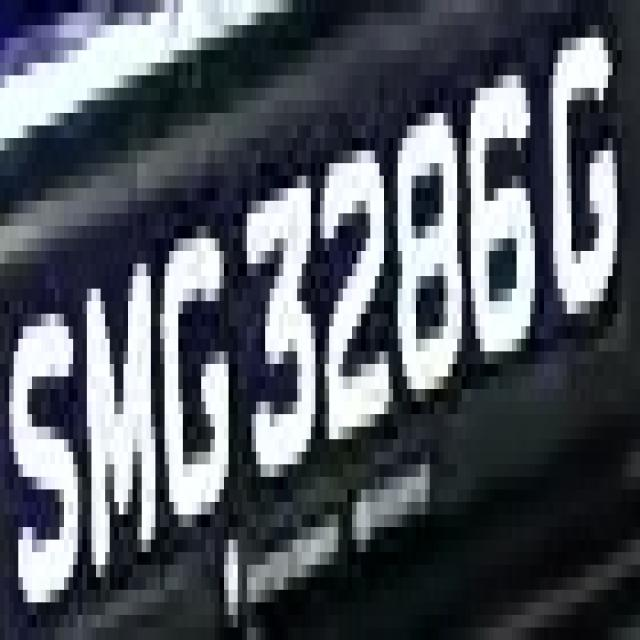2: (316, 126, 402, 464)
3: (229, 176, 320, 527)
6: (457, 50, 540, 402)
8: (384, 63, 466, 489)
G: (539, 51, 631, 352), (155, 251, 238, 565)
M: (68, 226, 164, 552)
S: (14, 263, 87, 640)
